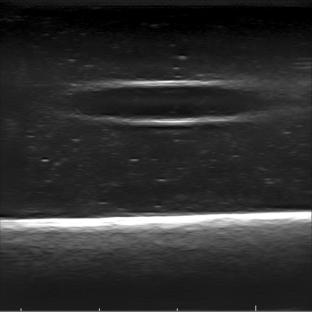vessel: (67, 78, 273, 125)
